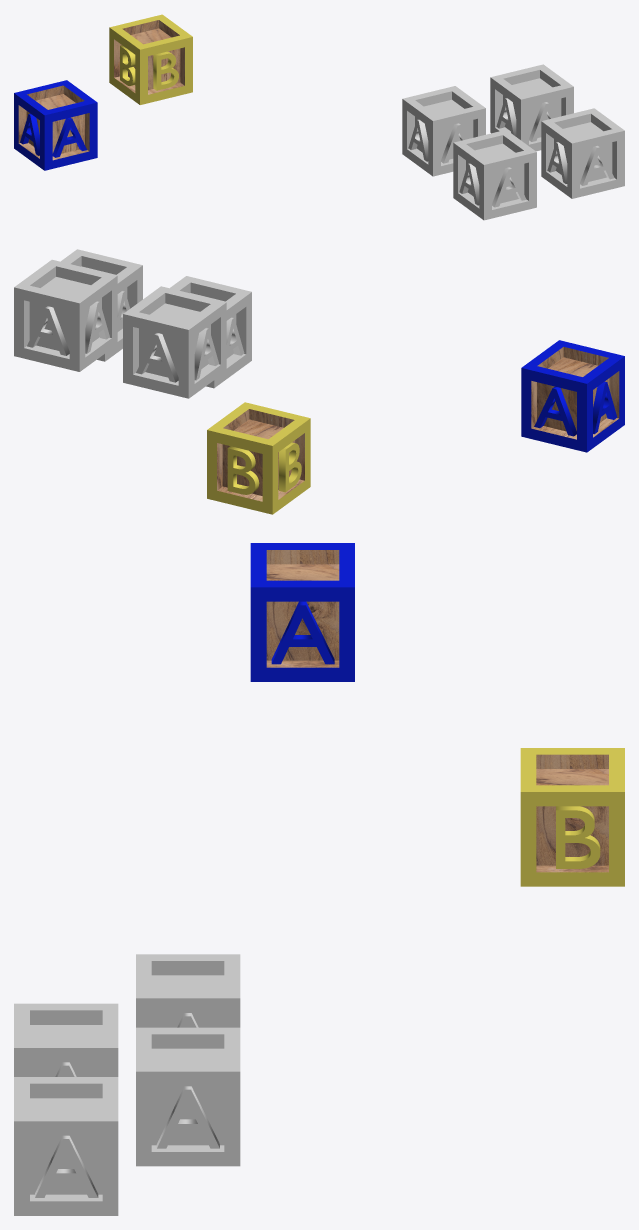
Rendered from BabyBlockA.fbx.
3 renders of one model, top to bottom at view 1: azimuth 30°, elevation 25°; view 2: azimuth 150°, elevation 25°; view 3: azimuth 270°, elevation 25°, orthographic. The views are drawn at different scales.
Visible parts, largest first — view 1: Cube.003, Cube.001, Cube.004, Cube.006, Cube.002, Cube.005, Text.020, Text.012, Text.011, Text.023, Text.015, Text.019 (+2 smaller); view 2: Cube.001, Cube.003, Cube.005, Cube.002, Cube.004, Cube.006, Text.017, Text.009, Text.019, Text.011, Text.015; view 3: Cube.003, Cube.001, Cube.005, Cube.006, Cube.004, Cube.002, Text.018, Text.022.
Boxes of the visible parts, box(x1,y1,x2,y2) form: Cube.003: box(14, 80, 97, 170); Cube.001: box(109, 14, 192, 104); Cube.004: box(453, 129, 536, 220); Cube.006: box(541, 108, 624, 198); Cube.002: box(402, 86, 485, 176); Cube.005: box(490, 64, 573, 151); Text.020: box(580, 145, 614, 185); Text.012: box(492, 167, 526, 207); Text.011: box(408, 119, 428, 161); Text.023: box(547, 142, 567, 183); Text.015: box(459, 163, 479, 205); Text.019: box(496, 98, 516, 136); Cube.001: box(207, 402, 310, 514); Cube.003: box(521, 340, 624, 452); Cube.005: box(14, 259, 117, 371); Cube.002: box(123, 286, 226, 398); Cube.004: box(170, 276, 251, 388); Cube.006: box(61, 249, 142, 361); Text.017: box(27, 306, 69, 355); Text.009: box(136, 333, 178, 382); Text.019: box(85, 301, 109, 353); Text.011: box(194, 327, 218, 380); Text.015: box(226, 317, 244, 358); Cube.003: box(250, 543, 354, 681); Cube.001: box(520, 748, 624, 886); Cube.005: box(136, 1027, 240, 1166); Cube.006: box(14, 1077, 118, 1215); Cube.004: box(14, 1003, 118, 1076); Cube.002: box(136, 954, 240, 1027); Text.018: box(156, 1086, 219, 1148); Text.022: box(35, 1135, 98, 1197).
Size of the model in its own units: 1929 by 522 by 1170.
